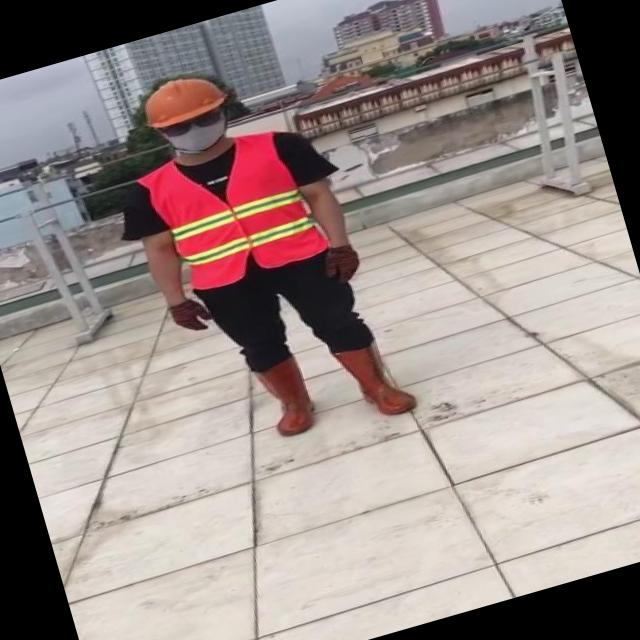hard_hat: (134, 62, 236, 132)
safety_vest: (137, 124, 330, 297)
vehicle: (80, 29, 439, 479)
work_boots: (331, 334, 420, 427), (247, 346, 323, 442)
